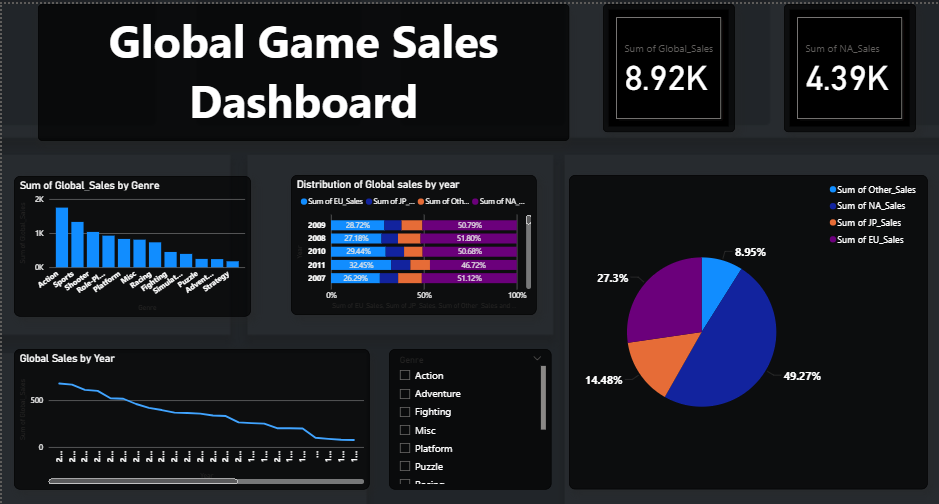

This screenshot's page, from the dashboard's own definition file:
{"tool":"powerbi","page":{"name":"Page 1","canvas":[1500,800],"ordinal":0},"visuals":[{"type":"pieChart","fields":{"Y":["Sum(Table1.Other_Sales)","Sum(Table1.NA_Sales)","Sum(Table1.JP_Sales)","Sum(Table1.EU_Sales)"]},"box":[907.3,274.3,573.5,502.6],"z":0},{"type":"lineChart","title":"Global Sales by Year","fields":{"Y":["Sum(Table1.Global_Sales)"],"Category":["Table1.Year"]},"box":[19.2,551.9,569.2,225],"z":1000},{"type":"columnChart","fields":{"Y":["Sum(Table1.Global_Sales)"],"Category":["Table1.Genre"]},"box":[19.2,275,378.8,225],"z":2000},{"type":"slicer","fields":{"Values":["Table1.Genre"]},"box":[619.2,551.9,259.6,225],"z":3000},{"type":"cardVisual","fields":{"Data":["Sum(Table1.Global_Sales)"]},"box":[961,0,211,205.2],"z":4000},{"type":"hundredPercentStackedBarChart","title":"Distribution of Global sales by year","fields":{"Category":["Table1.Year"],"Y":["Sum(Table1.EU_Sales)","Sum(Table1.JP_Sales)","Sum(Table1.Other_Sales)","Sum(Table1.NA_Sales)"]},"box":[462.3,274.3,393.2,224.4],"z":5000},{"type":"textbox","box":[57.5,0,849.7,218.7],"z":6000},{"type":"cardVisual","fields":{"Data":["Sum(Table1.NA_Sales)"]},"box":[1250.6,0,211,205.2],"z":7000}]}

Visuals, with their boxes in screenshot pixels (x1, y1, x2, y2), scaled from the page's 1500x800 canvas onto the 939x504 screenshot:
pieChart - Sum(Table1.Other_Sales) x Sum(Table1.NA_Sales): {"left": 568, "top": 173, "right": 927, "bottom": 489}
"Global Sales by Year" lineChart: {"left": 12, "top": 348, "right": 368, "bottom": 489}
columnChart - Sum(Table1.Global_Sales) x Table1.Genre: {"left": 12, "top": 173, "right": 249, "bottom": 315}
slicer - Table1.Genre: {"left": 388, "top": 348, "right": 550, "bottom": 489}
cardVisual - Sum(Table1.Global_Sales): {"left": 602, "top": 0, "right": 734, "bottom": 129}
"Distribution of Global sales by year" hundredPercentStackedBarChart: {"left": 289, "top": 173, "right": 536, "bottom": 314}
textbox: {"left": 36, "top": 0, "right": 568, "bottom": 138}
cardVisual - Sum(Table1.NA_Sales): {"left": 783, "top": 0, "right": 915, "bottom": 129}
